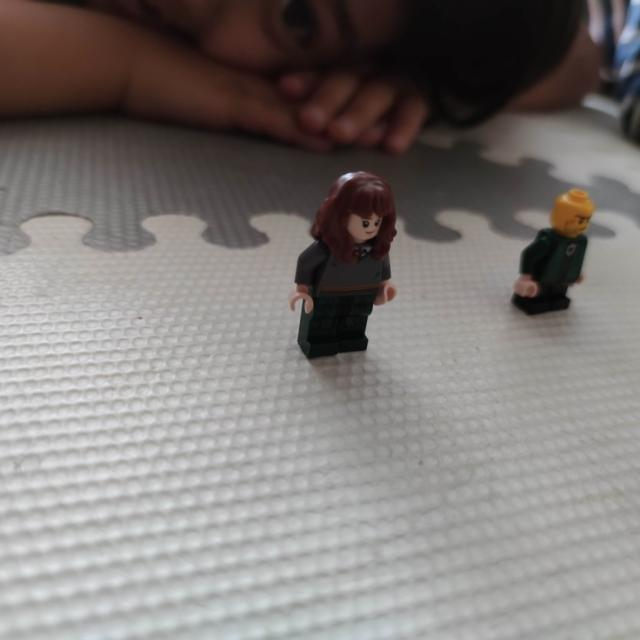lego: (292, 169, 396, 360), (509, 188, 595, 317)
